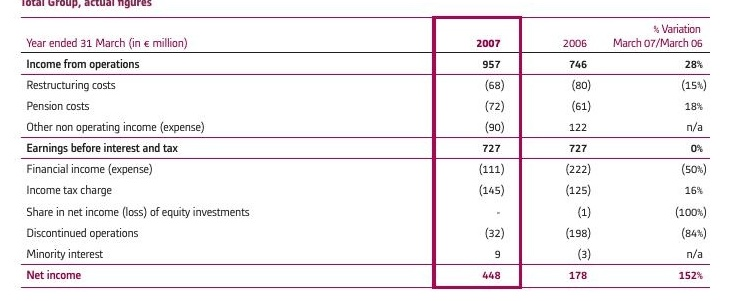table: (0, 0, 734, 301)
